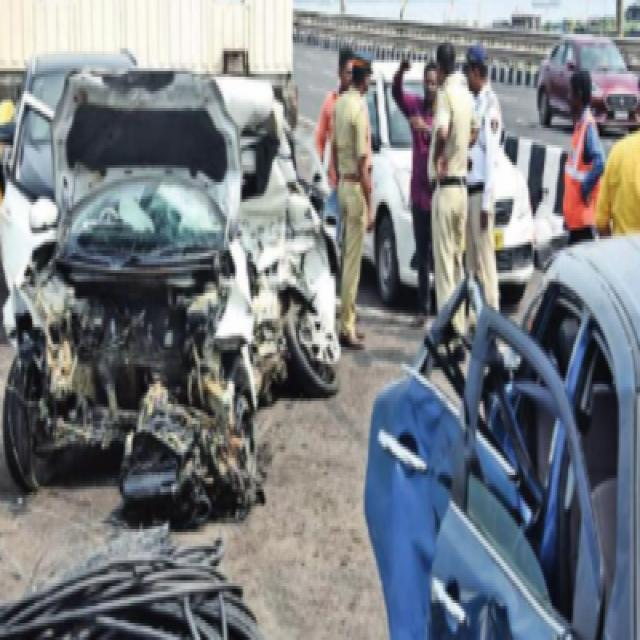accident: (1, 71, 338, 524), (365, 238, 640, 639)
car: (538, 36, 640, 129)
